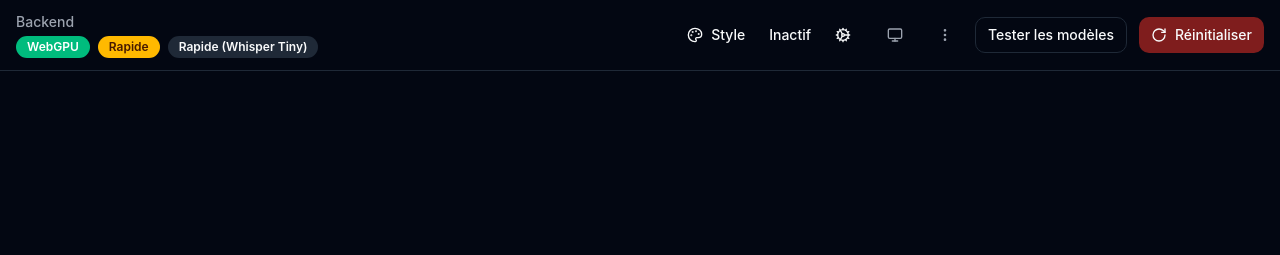
Test case: Topbar › resets the telemetry console buffer from the panel
Click the button named "Afficher les logs console": coordinates (895, 35) x1=875 y1=15 x2=915 y2=55
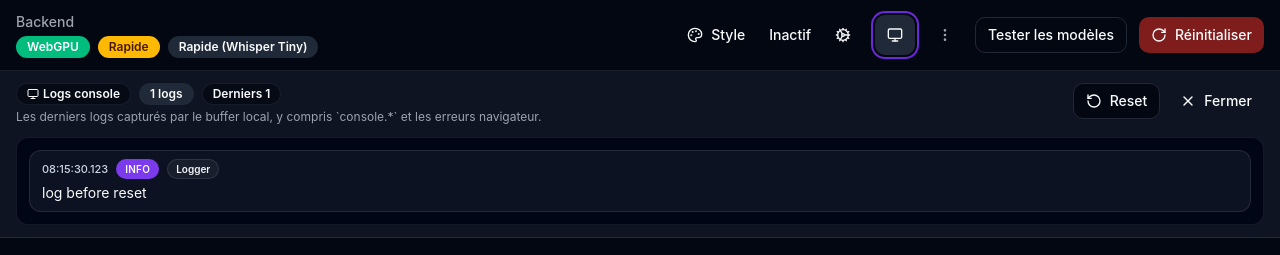
Now the text "log before reset" is shown, box x1=42 y1=184 x2=147 y2=201
Click the button with aria-label "Réinitialiser les logs console": coordinates (1116, 101) x1=1073 y1=83 x2=1160 y2=119
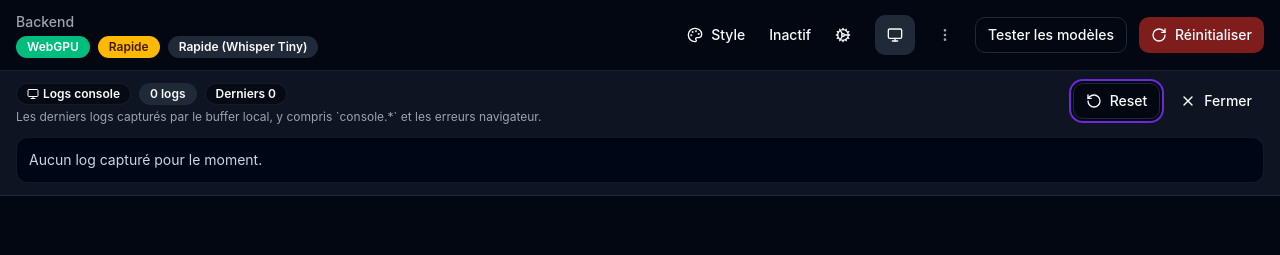
Now the text "log before reset" is gone
Now the text "Aucun log capturé pour le moment." is shown, box x1=29 y1=151 x2=262 y2=168
Now the text "0 logs" is shown, box x1=139 y1=83 x2=196 y2=105
